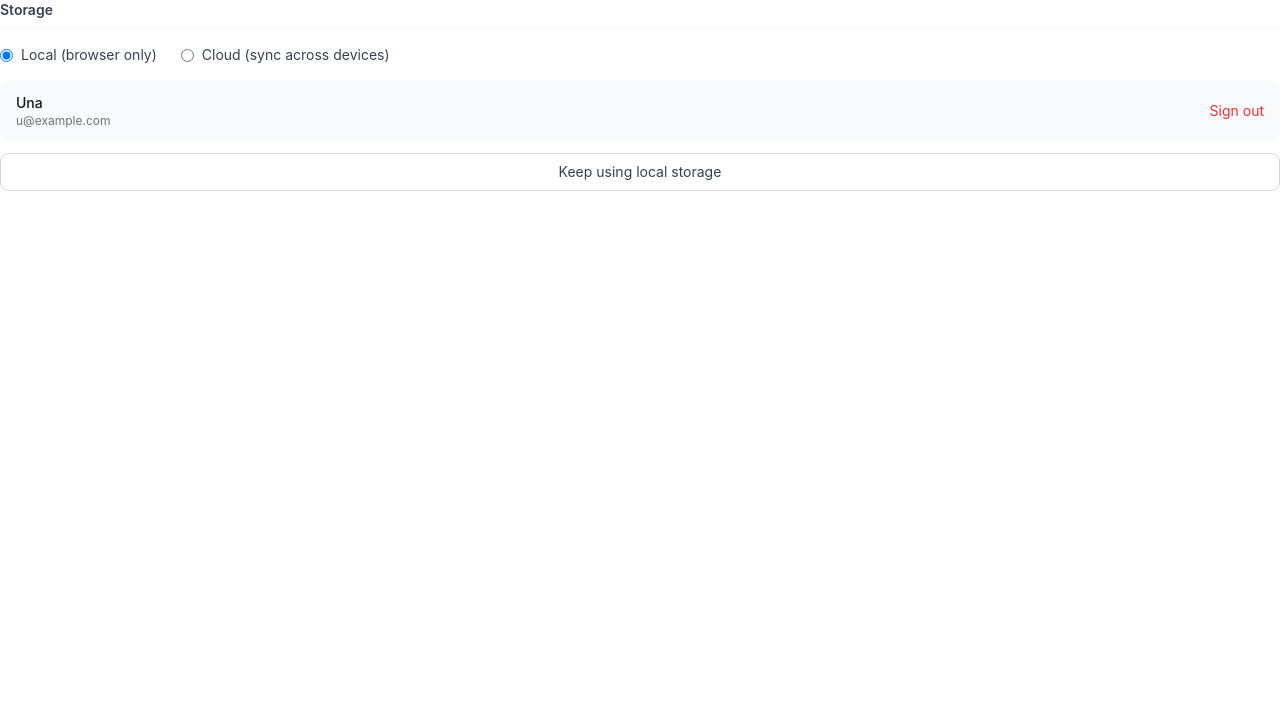
Test: StorageSection upload › an upload that stops: the error line, no mode switch and no clear offer
Click the radio button labelled "Cloud (sync across devices)" at (187, 55), box x1=181 y1=48 x2=194 y2=62
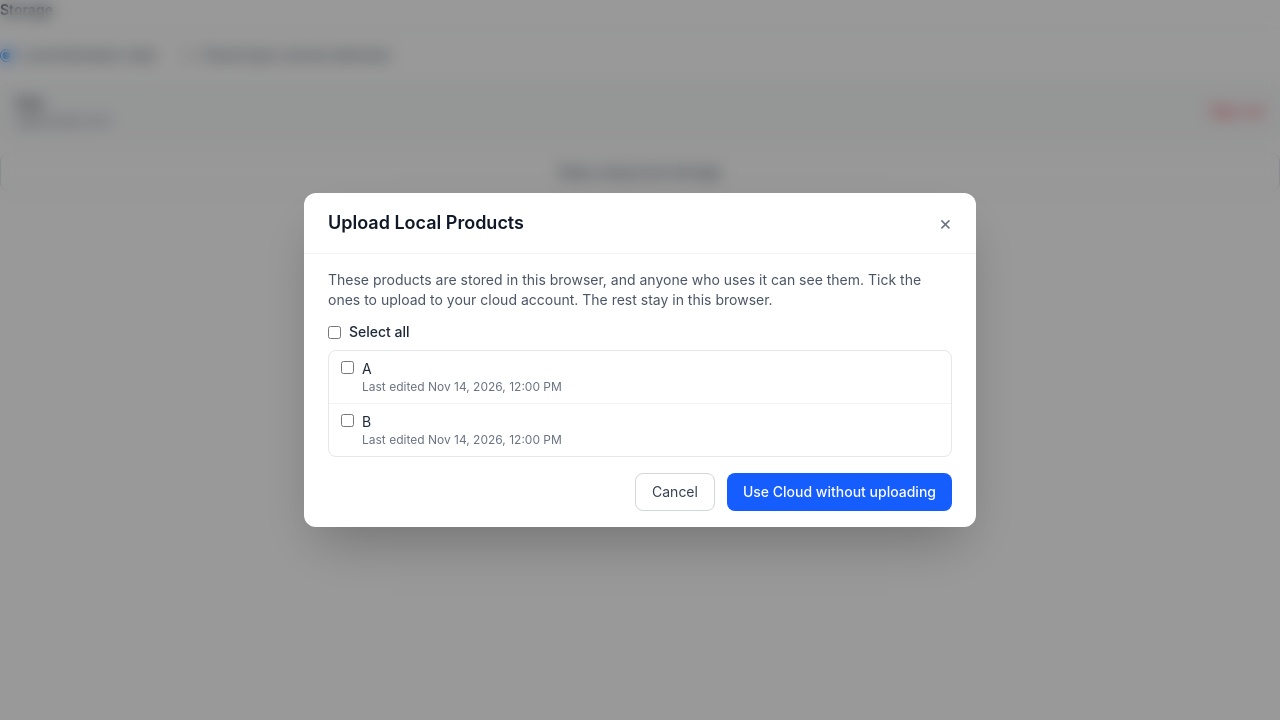
Click the checkbox labelled "Select all" at (334, 332), box x1=328 y1=326 x2=341 y2=338
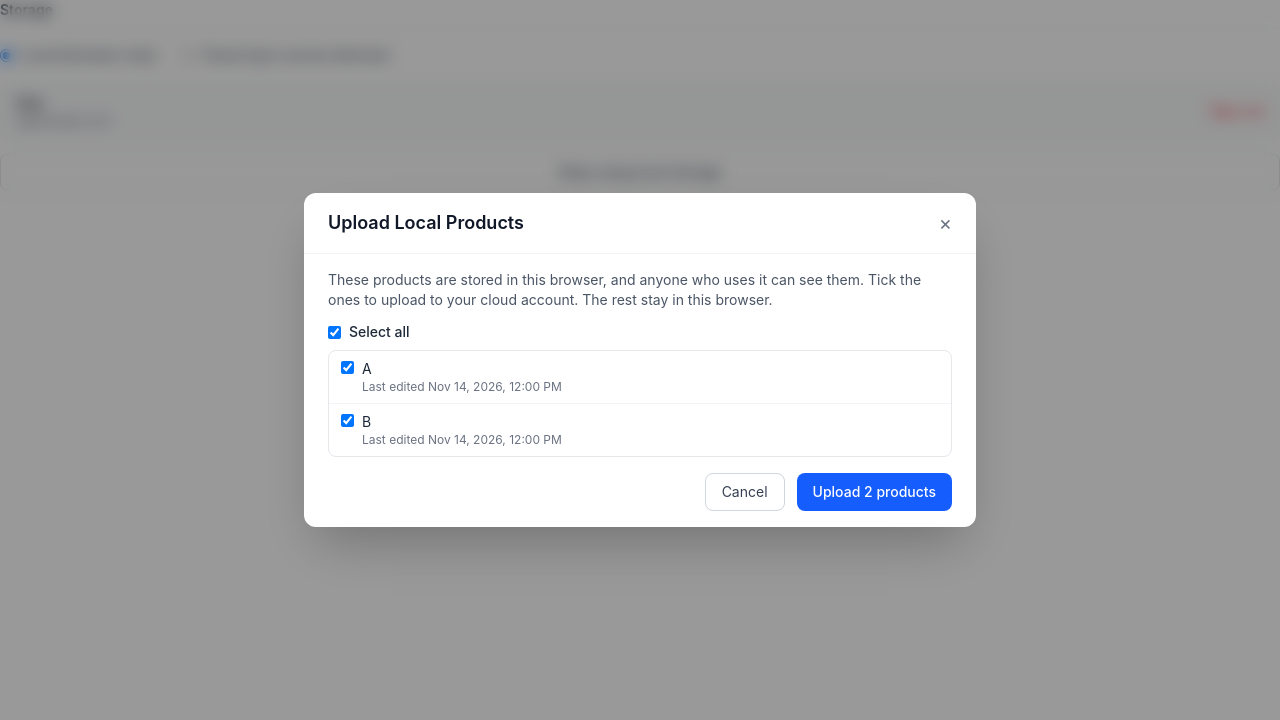
Click the button "Upload 2 products" at (874, 492), box x1=797 y1=473 x2=952 y2=511
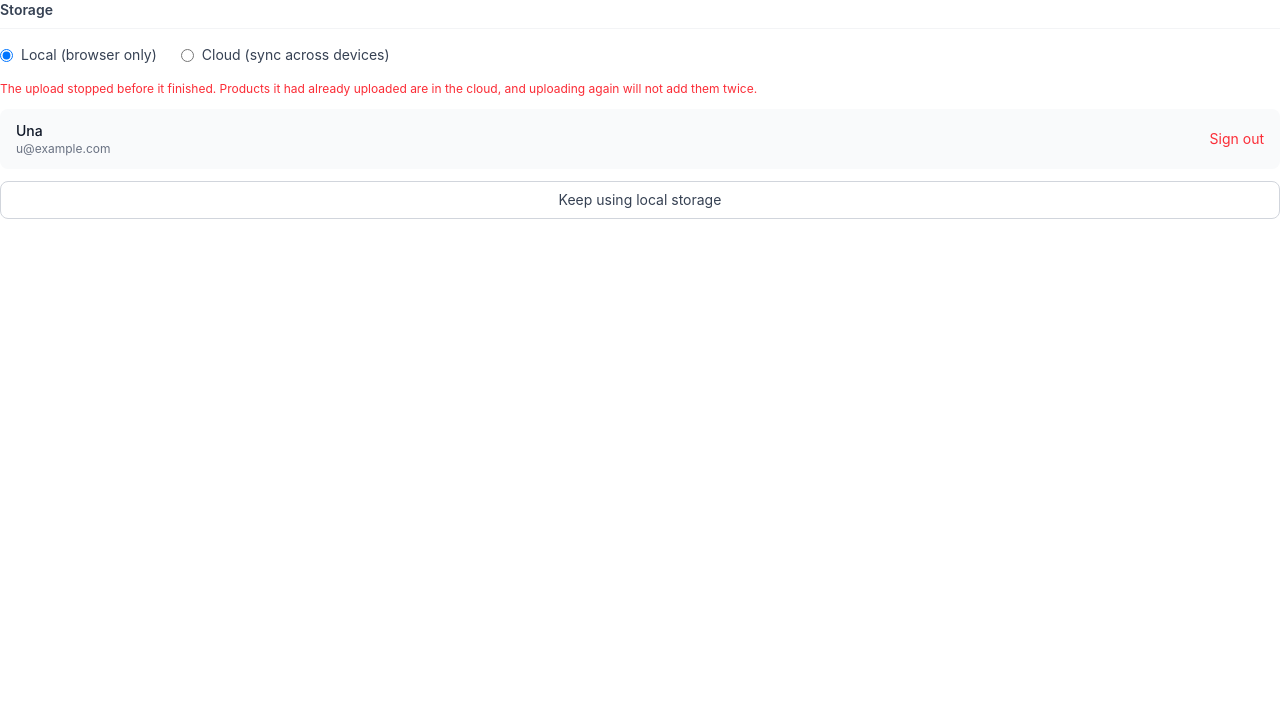
Result: the text "The upload stopped before it finished. Products it had already uploaded are in the cloud, and uploading again will not add them twice." is shown at x1=0 y1=81 x2=757 y2=96
